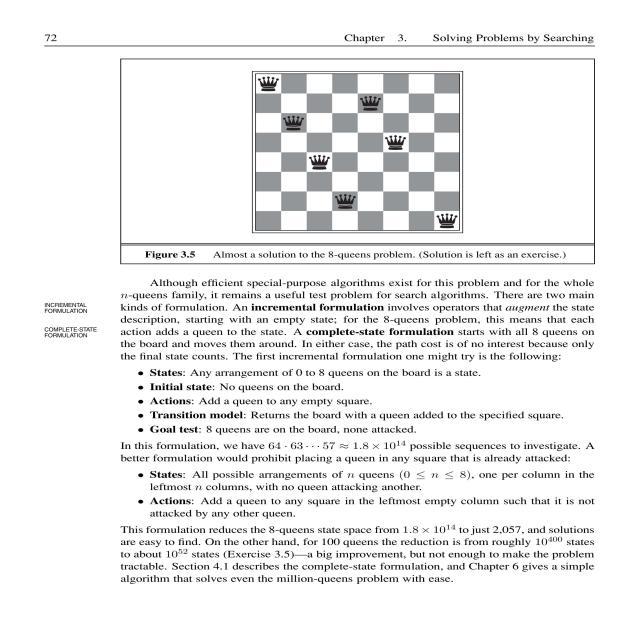diagram: (116, 61, 626, 267)
